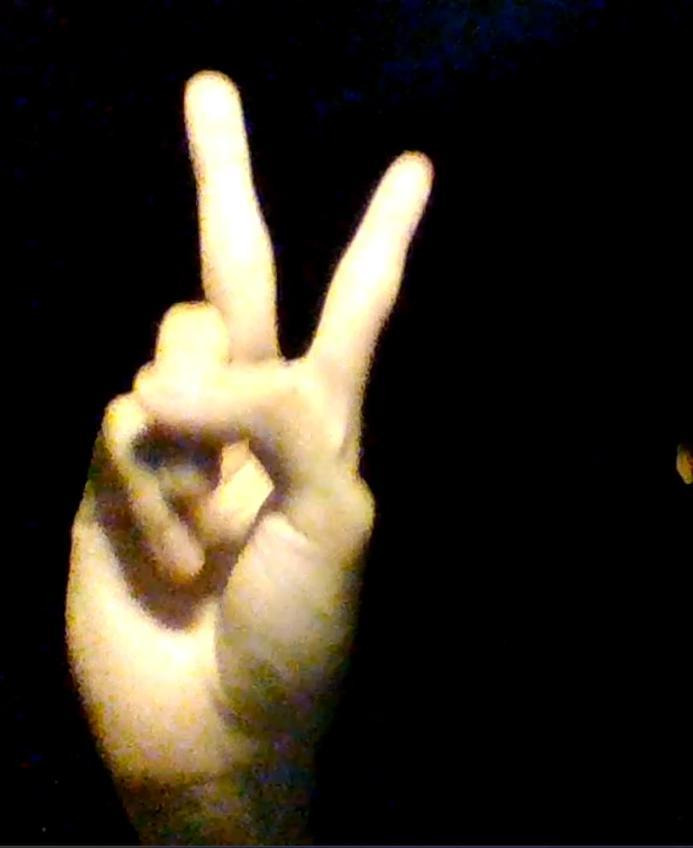v: (58, 67, 434, 775)
